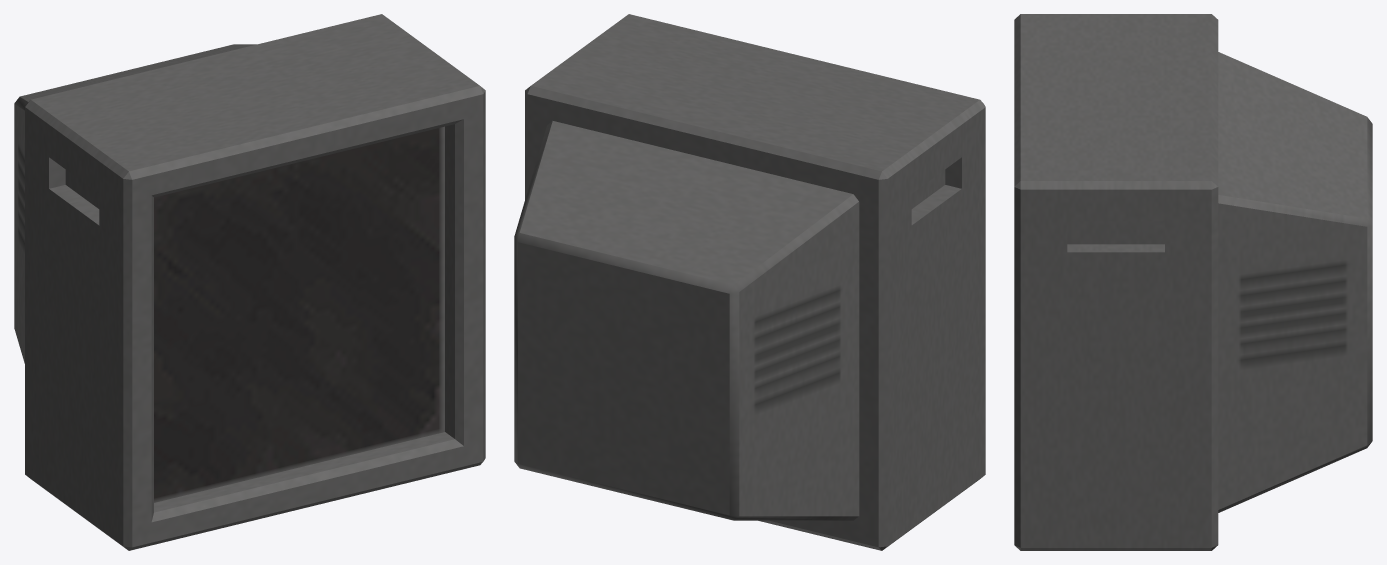
3 views of the same model, side by side, from view 1: azimuth 30°, elevation 25°; view 2: azimuth 150°, elevation 25°; view 3: azimuth 270°, elevation 25° (orthographic). The views are drawn at different scales.
Visible parts, largest first — view 1: pCube1; view 2: pCube1; view 3: pCube1.
Boxes of the visible parts, <box> form: pCube1: <box>14,14,485,550</box>; pCube1: <box>514,14,985,550</box>; pCube1: <box>1014,14,1372,550</box>.
Size of the model in its own units: 30 by 30 by 26.36.
2 materials, 2 textured.
